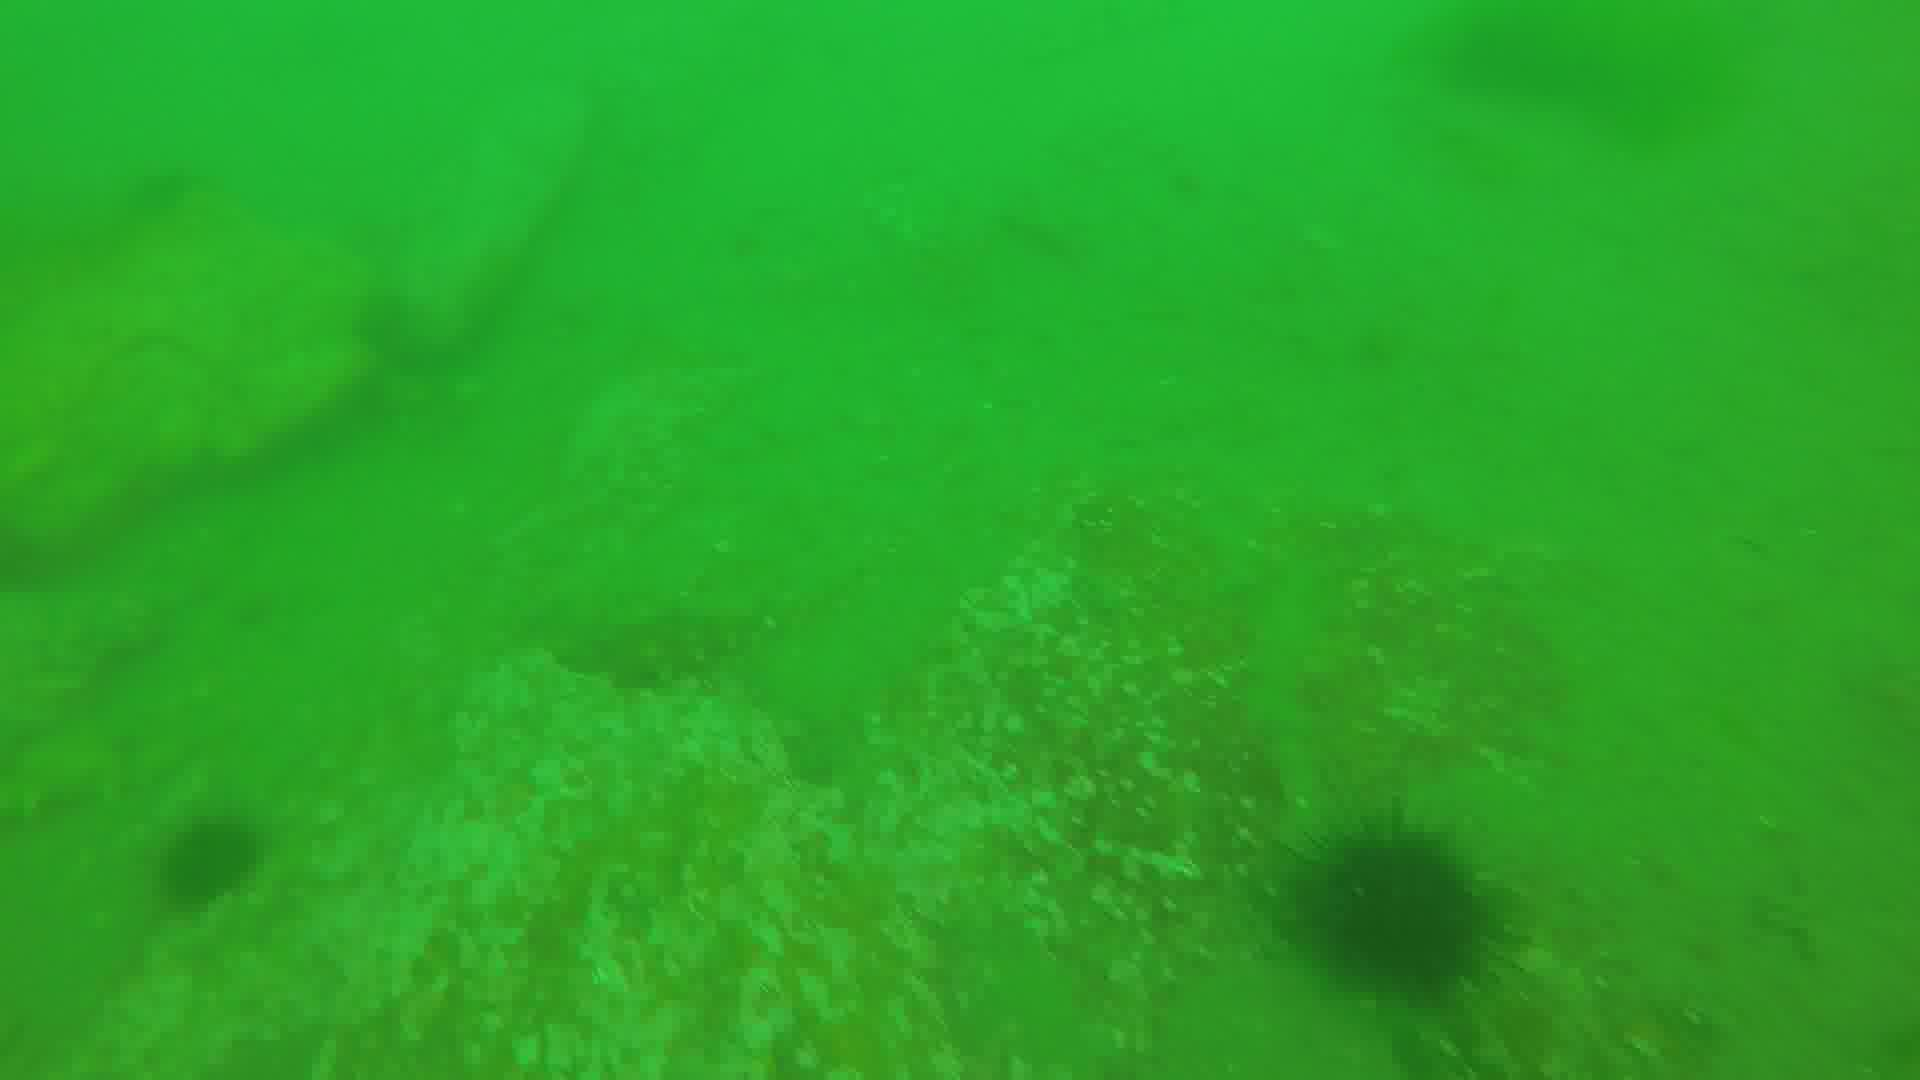echinus: (1302, 811, 1487, 1006), (161, 814, 262, 923)
holothurian: (498, 593, 757, 723)
